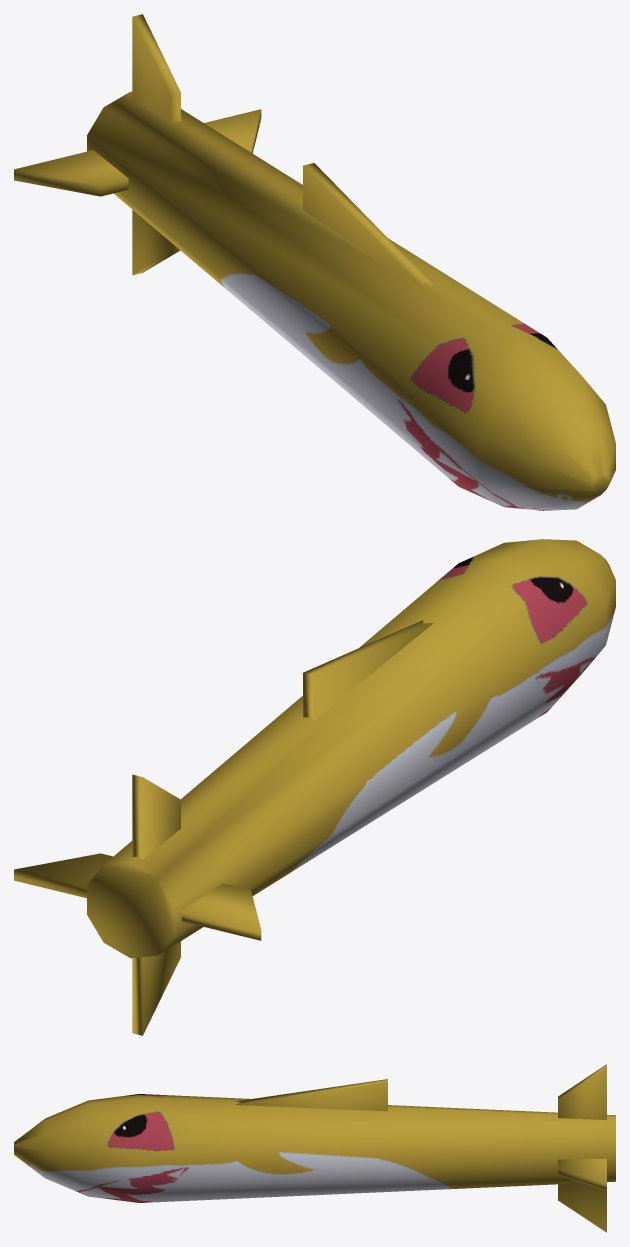
Rendered from yulei.fbx.
3 views of the same model, one above another, from view 1: azimuth 30°, elevation 25°; view 2: azimuth 150°, elevation 25°; view 3: azimuth 270°, elevation 25° (orthographic). The views are drawn at different scales.
Visible parts, largest first — view 1: polySurface1; view 2: polySurface1; view 3: polySurface1.
Boxes of the visible parts, x1,y1,x2,y2 form: polySurface1: (14,14,615,510); polySurface1: (14,539,615,1035); polySurface1: (14,1064,615,1232).
Size of the model in its own units: 0.7723 by 0.7723 by 2.55.
